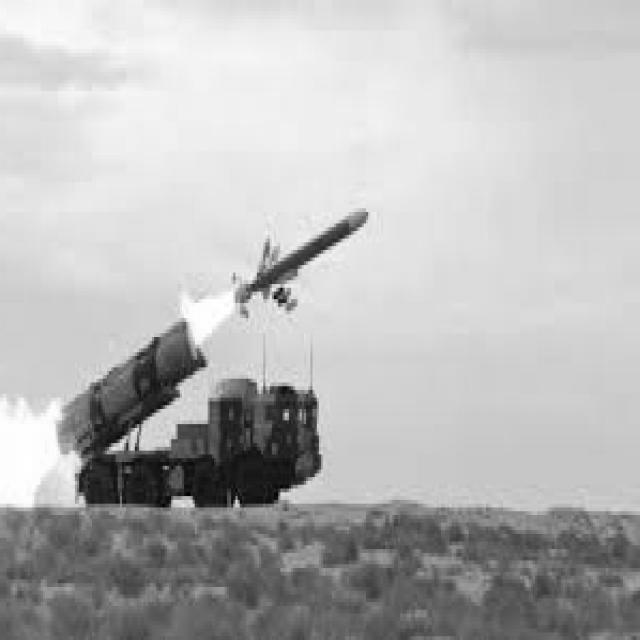missile: (241, 197, 373, 307)
